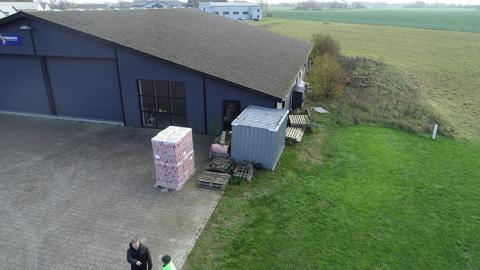RockwoolPallet: (151, 125, 197, 191)
